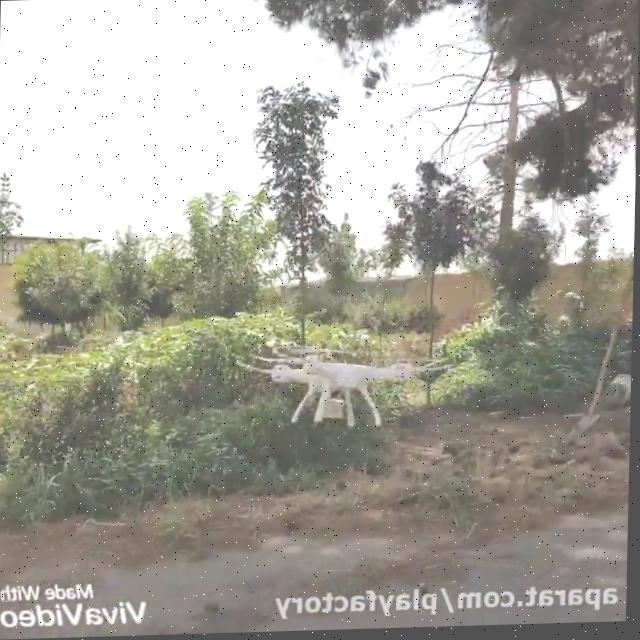drone: (231, 341, 459, 431)
